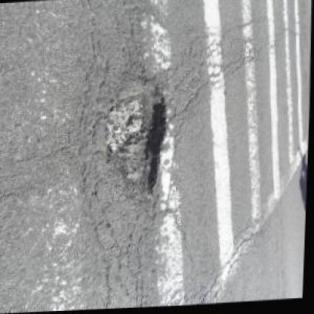Hueco: (98, 63, 173, 206)
